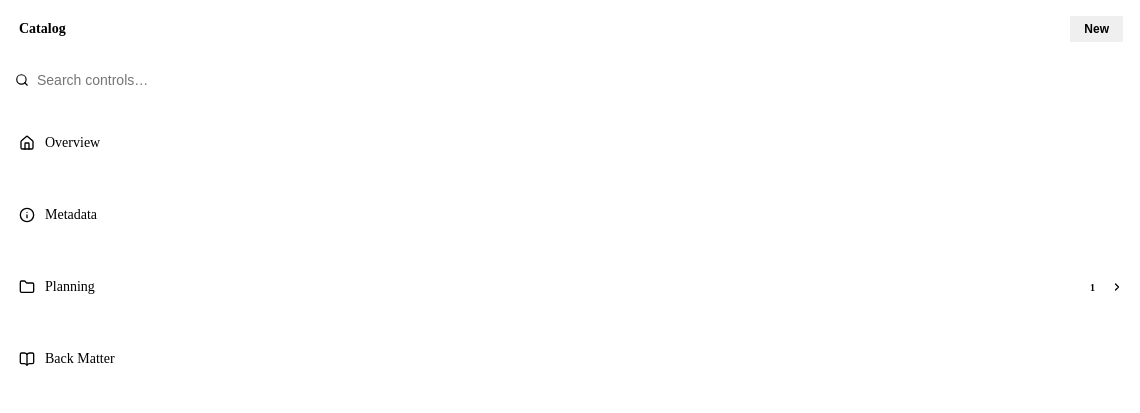
Test: CatalogPage part titles (issue #102) › shows a control's part titles, including a part with only a title
Click the text "Planning" at x=70, y=286, box [45, 279, 95, 294]
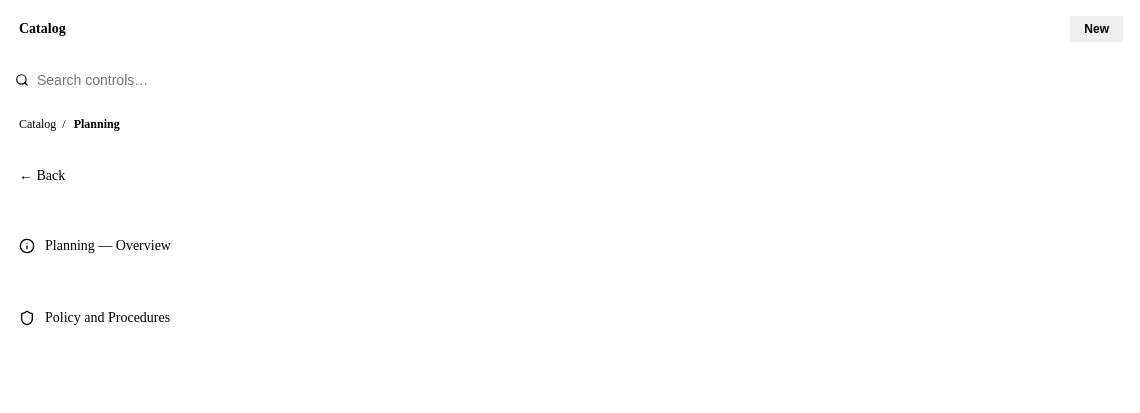
Click the text "Policy and Procedures" at x=108, y=318, box [45, 310, 170, 325]
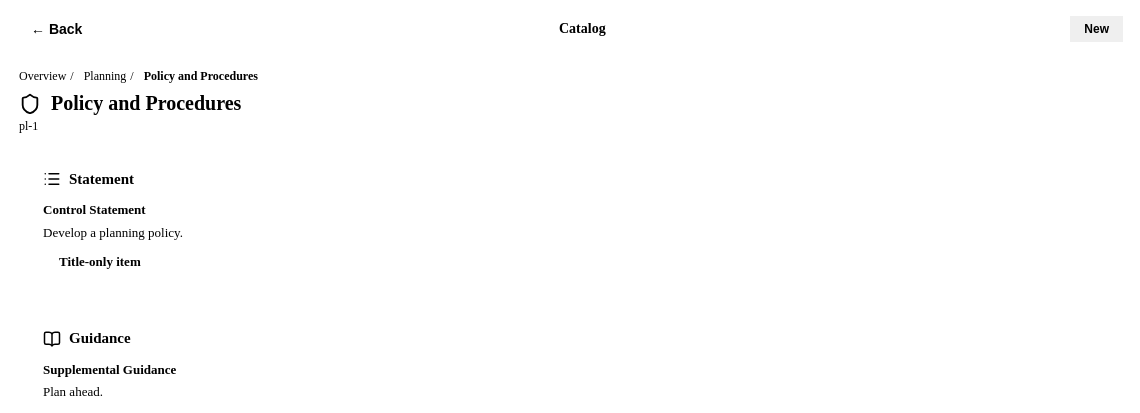
Now the heading "Policy and Procedures" is shown, box [51, 92, 241, 115]
Now the text "Control Statement" is shown, box [43, 202, 146, 217]
Now the text "Title-only item" is shown, box [59, 254, 141, 269]
